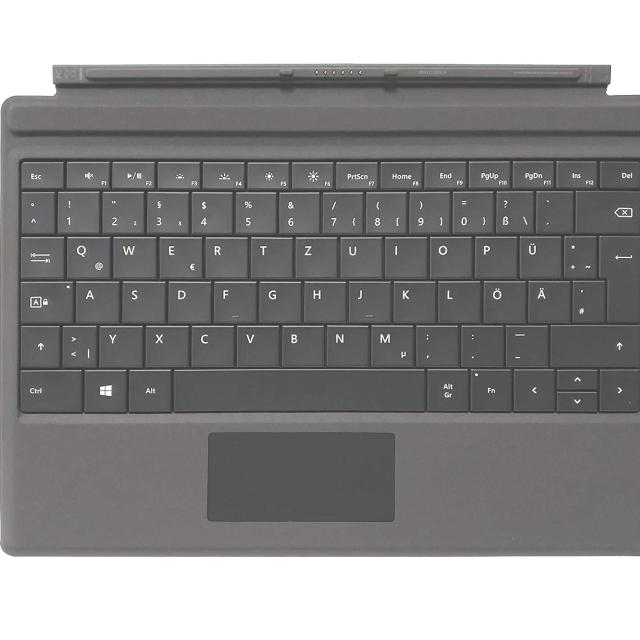0: (450, 188, 492, 233)
1: (55, 188, 98, 232)
2: (99, 188, 143, 233)
3: (143, 188, 187, 233)
4: (189, 188, 231, 232)
5: (232, 188, 275, 233)
6: (276, 188, 318, 233)
7: (320, 189, 362, 233)
8: (363, 188, 405, 233)
9: (406, 188, 448, 233)
a: (73, 278, 118, 321)
accent: (534, 186, 572, 232)
ae: (525, 278, 569, 322)
alt-left: (126, 366, 170, 411)
altgr-right: (424, 366, 467, 410)
b: (279, 322, 323, 365)
c: (188, 322, 233, 365)
caret: (19, 188, 52, 233)
comma: (413, 322, 457, 365)
d: (165, 277, 210, 321)
del: (574, 187, 640, 233)
e: (156, 233, 201, 278)
enter: (597, 233, 640, 323)
f: (211, 278, 255, 321)
g: (256, 278, 300, 321)
h: (301, 278, 344, 321)
hash: (570, 277, 603, 322)
i: (382, 233, 425, 276)
j: (346, 277, 389, 321)
k: (391, 278, 434, 321)
keyboard: (11, 149, 640, 422)
l: (436, 277, 479, 321)
less: (60, 322, 96, 367)
m: (367, 321, 412, 366)
minus: (503, 323, 547, 365)
n: (323, 322, 367, 365)
o: (426, 233, 471, 277)
oe: (480, 277, 524, 322)
p: (471, 233, 516, 276)
plus: (562, 232, 596, 277)
point: (459, 322, 503, 364)
q: (63, 233, 109, 278)
r: (202, 234, 246, 278)
s: (119, 279, 164, 322)
shift-left: (18, 323, 58, 367)
shift-lock: (18, 279, 73, 323)
shift-right: (548, 321, 640, 366)
space: (170, 366, 425, 411)
ss: (493, 187, 532, 233)
strg-left: (14, 367, 82, 412)
t: (248, 234, 291, 277)
tab: (18, 233, 63, 278)
u: (336, 233, 381, 277)
ue: (516, 233, 560, 277)
v: (234, 322, 277, 365)
w: (109, 233, 154, 277)
x: (142, 323, 188, 366)
y: (97, 322, 142, 366)
z: (292, 233, 336, 277)
